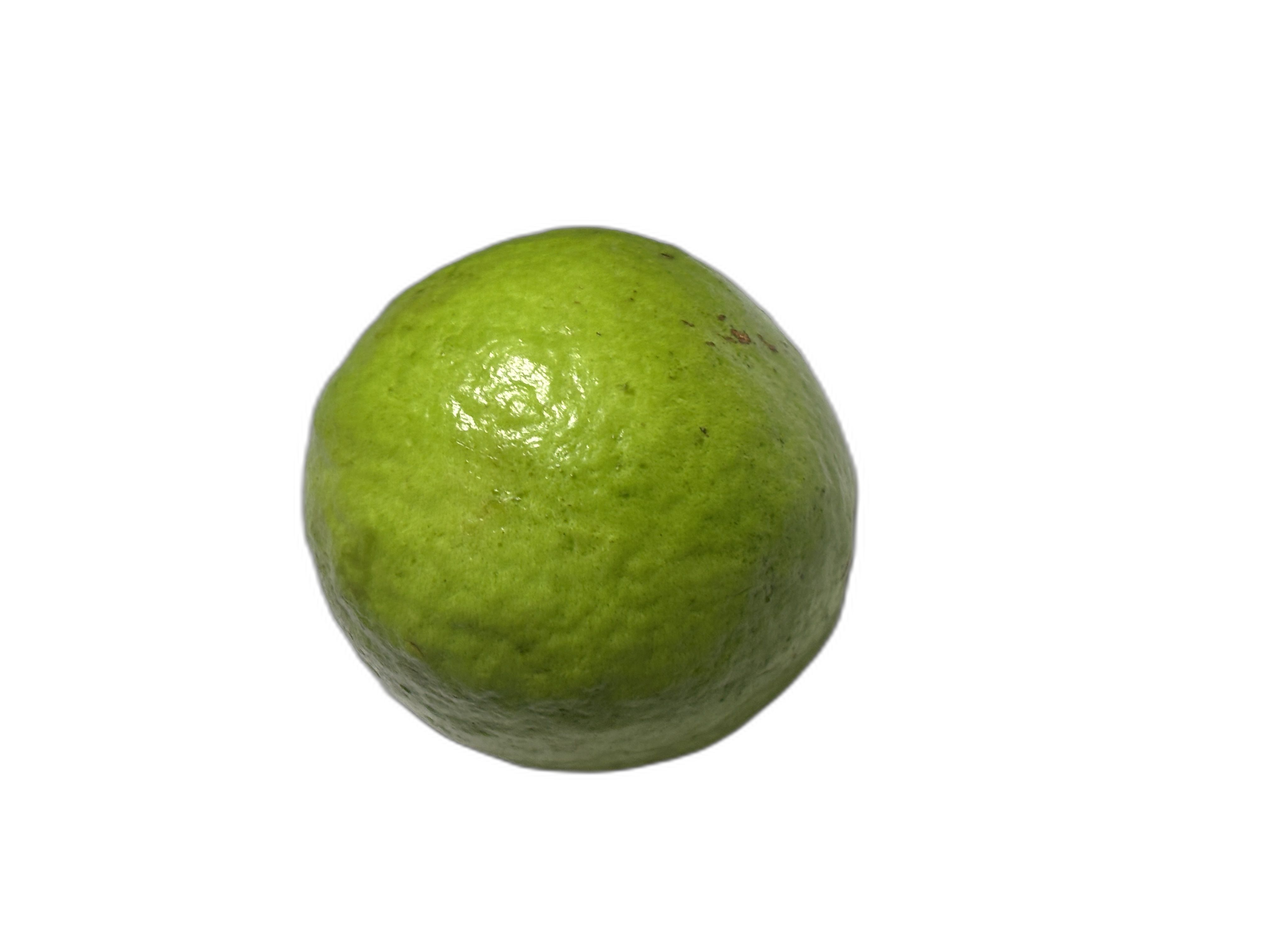guava: (78, 81, 1046, 815)
